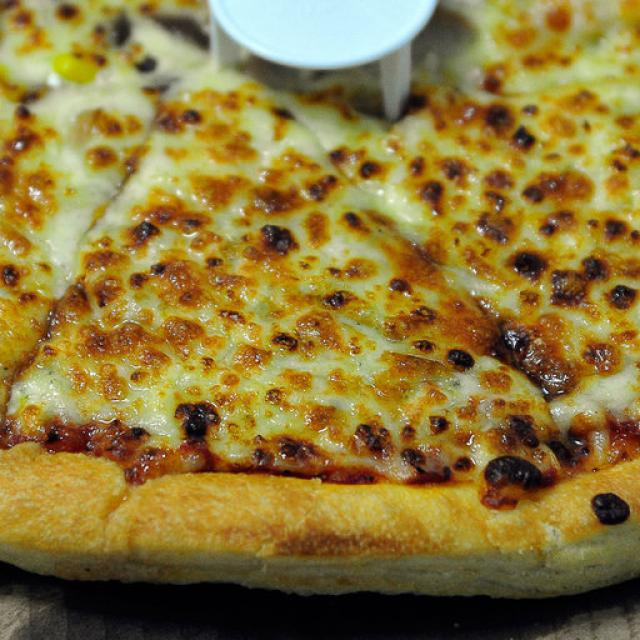Pizza: (0, 0, 640, 602)
